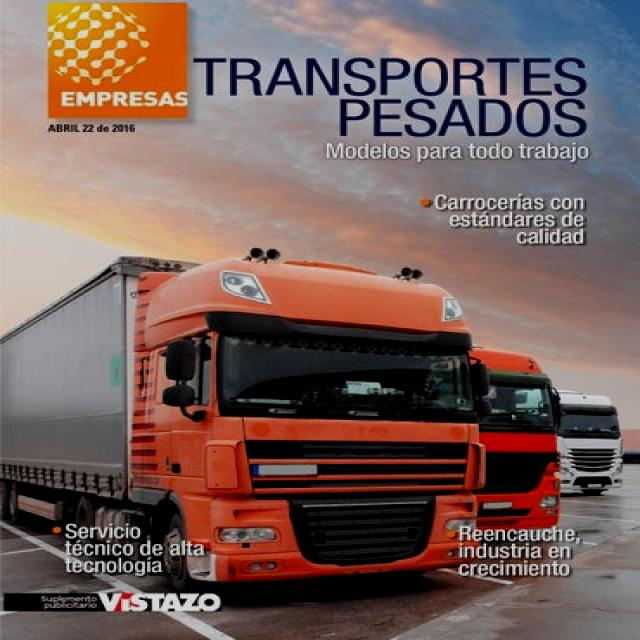TRUCK: (3, 257, 526, 604)
